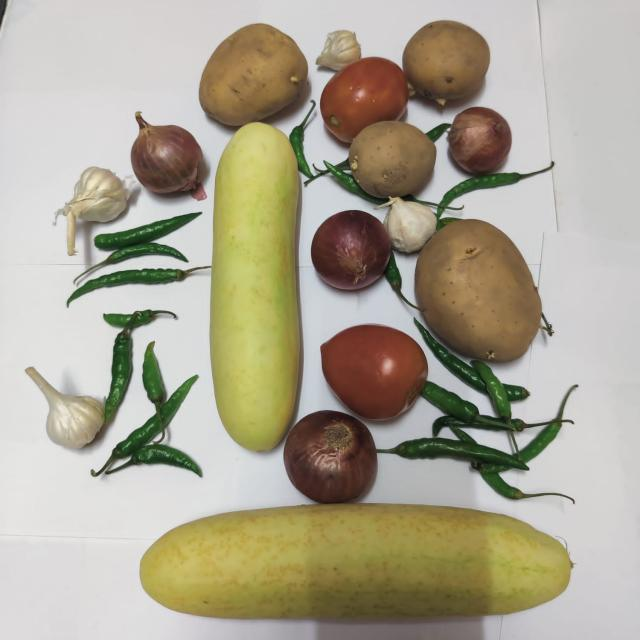Organik: (124, 500, 587, 626), (207, 120, 307, 452), (433, 361, 590, 501), (95, 302, 204, 484), (417, 222, 552, 363), (310, 309, 432, 425), (192, 24, 314, 130), (82, 205, 200, 304), (125, 107, 216, 206), (285, 411, 379, 502), (308, 205, 397, 301), (404, 16, 501, 101), (345, 116, 441, 200), (42, 163, 127, 254), (23, 364, 112, 450), (383, 193, 437, 254), (316, 26, 364, 74)
